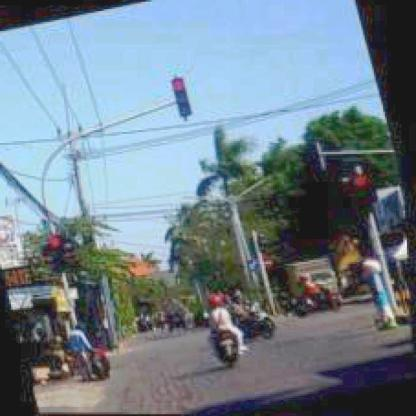Traffic Light -Red-: (354, 174, 380, 218), (50, 235, 74, 275), (174, 78, 196, 116)
